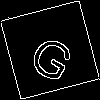G: (25, 25, 83, 85)
